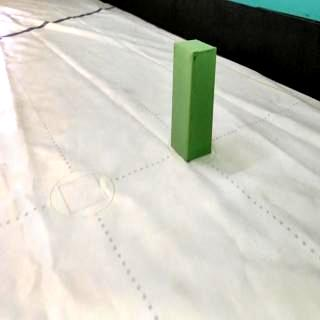greenbox: (172, 39, 217, 162)
